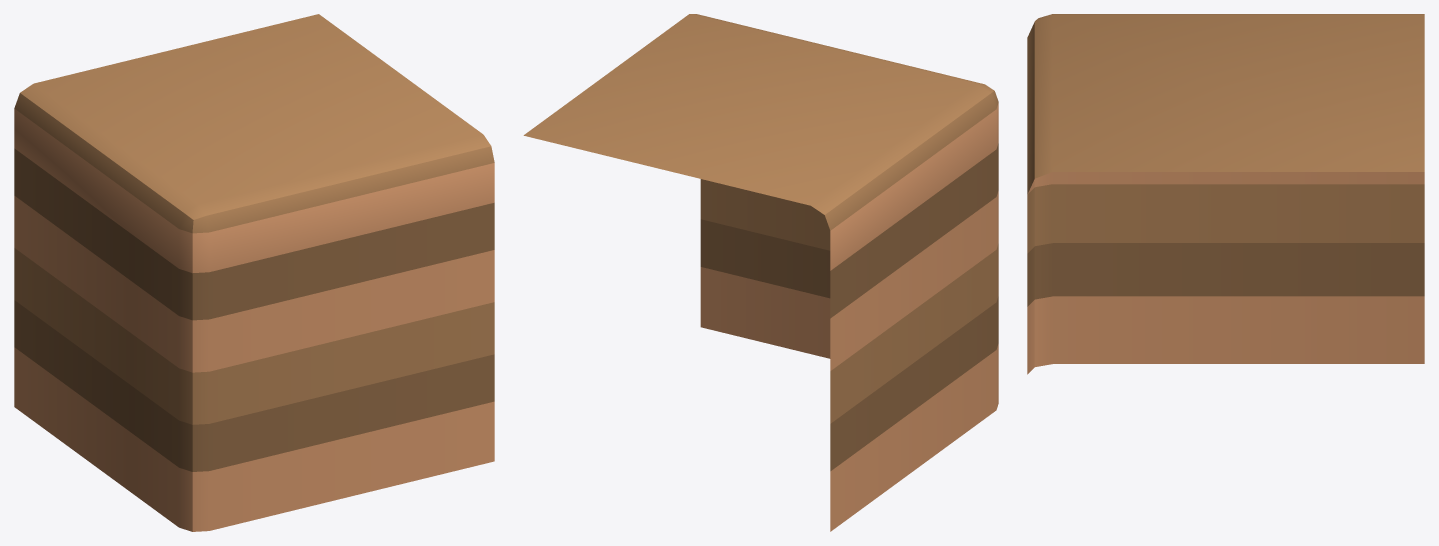
The model's file is Cube_Dirt_Corner_Tall.gltf.
3 views of the same model, side by side, from view 1: azimuth 30°, elevation 25°; view 2: azimuth 150°, elevation 25°; view 3: azimuth 270°, elevation 25° (orthographic). The views are drawn at different scales.
Parts seen in each view (by area): view 1: Cube_Dirt_Corner_Tall; view 2: Cube_Dirt_Corner_Tall; view 3: Cube_Dirt_Corner_Tall.
Part boxes in pixels (x1,y1,x2,y2): Cube_Dirt_Corner_Tall: (14,14,494,531); Cube_Dirt_Corner_Tall: (523,14,998,531); Cube_Dirt_Corner_Tall: (1027,14,1424,374).
Bounding box in the file's own units: 2 × 2 × 2.
